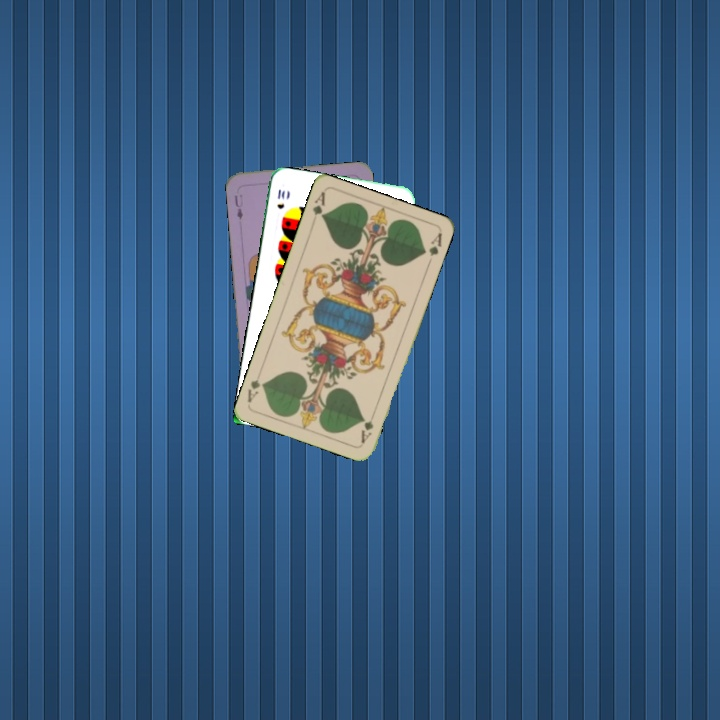EU: (230, 190, 246, 222)
GA: (357, 407, 378, 446), (308, 188, 328, 222)
S10: (273, 185, 287, 212)
